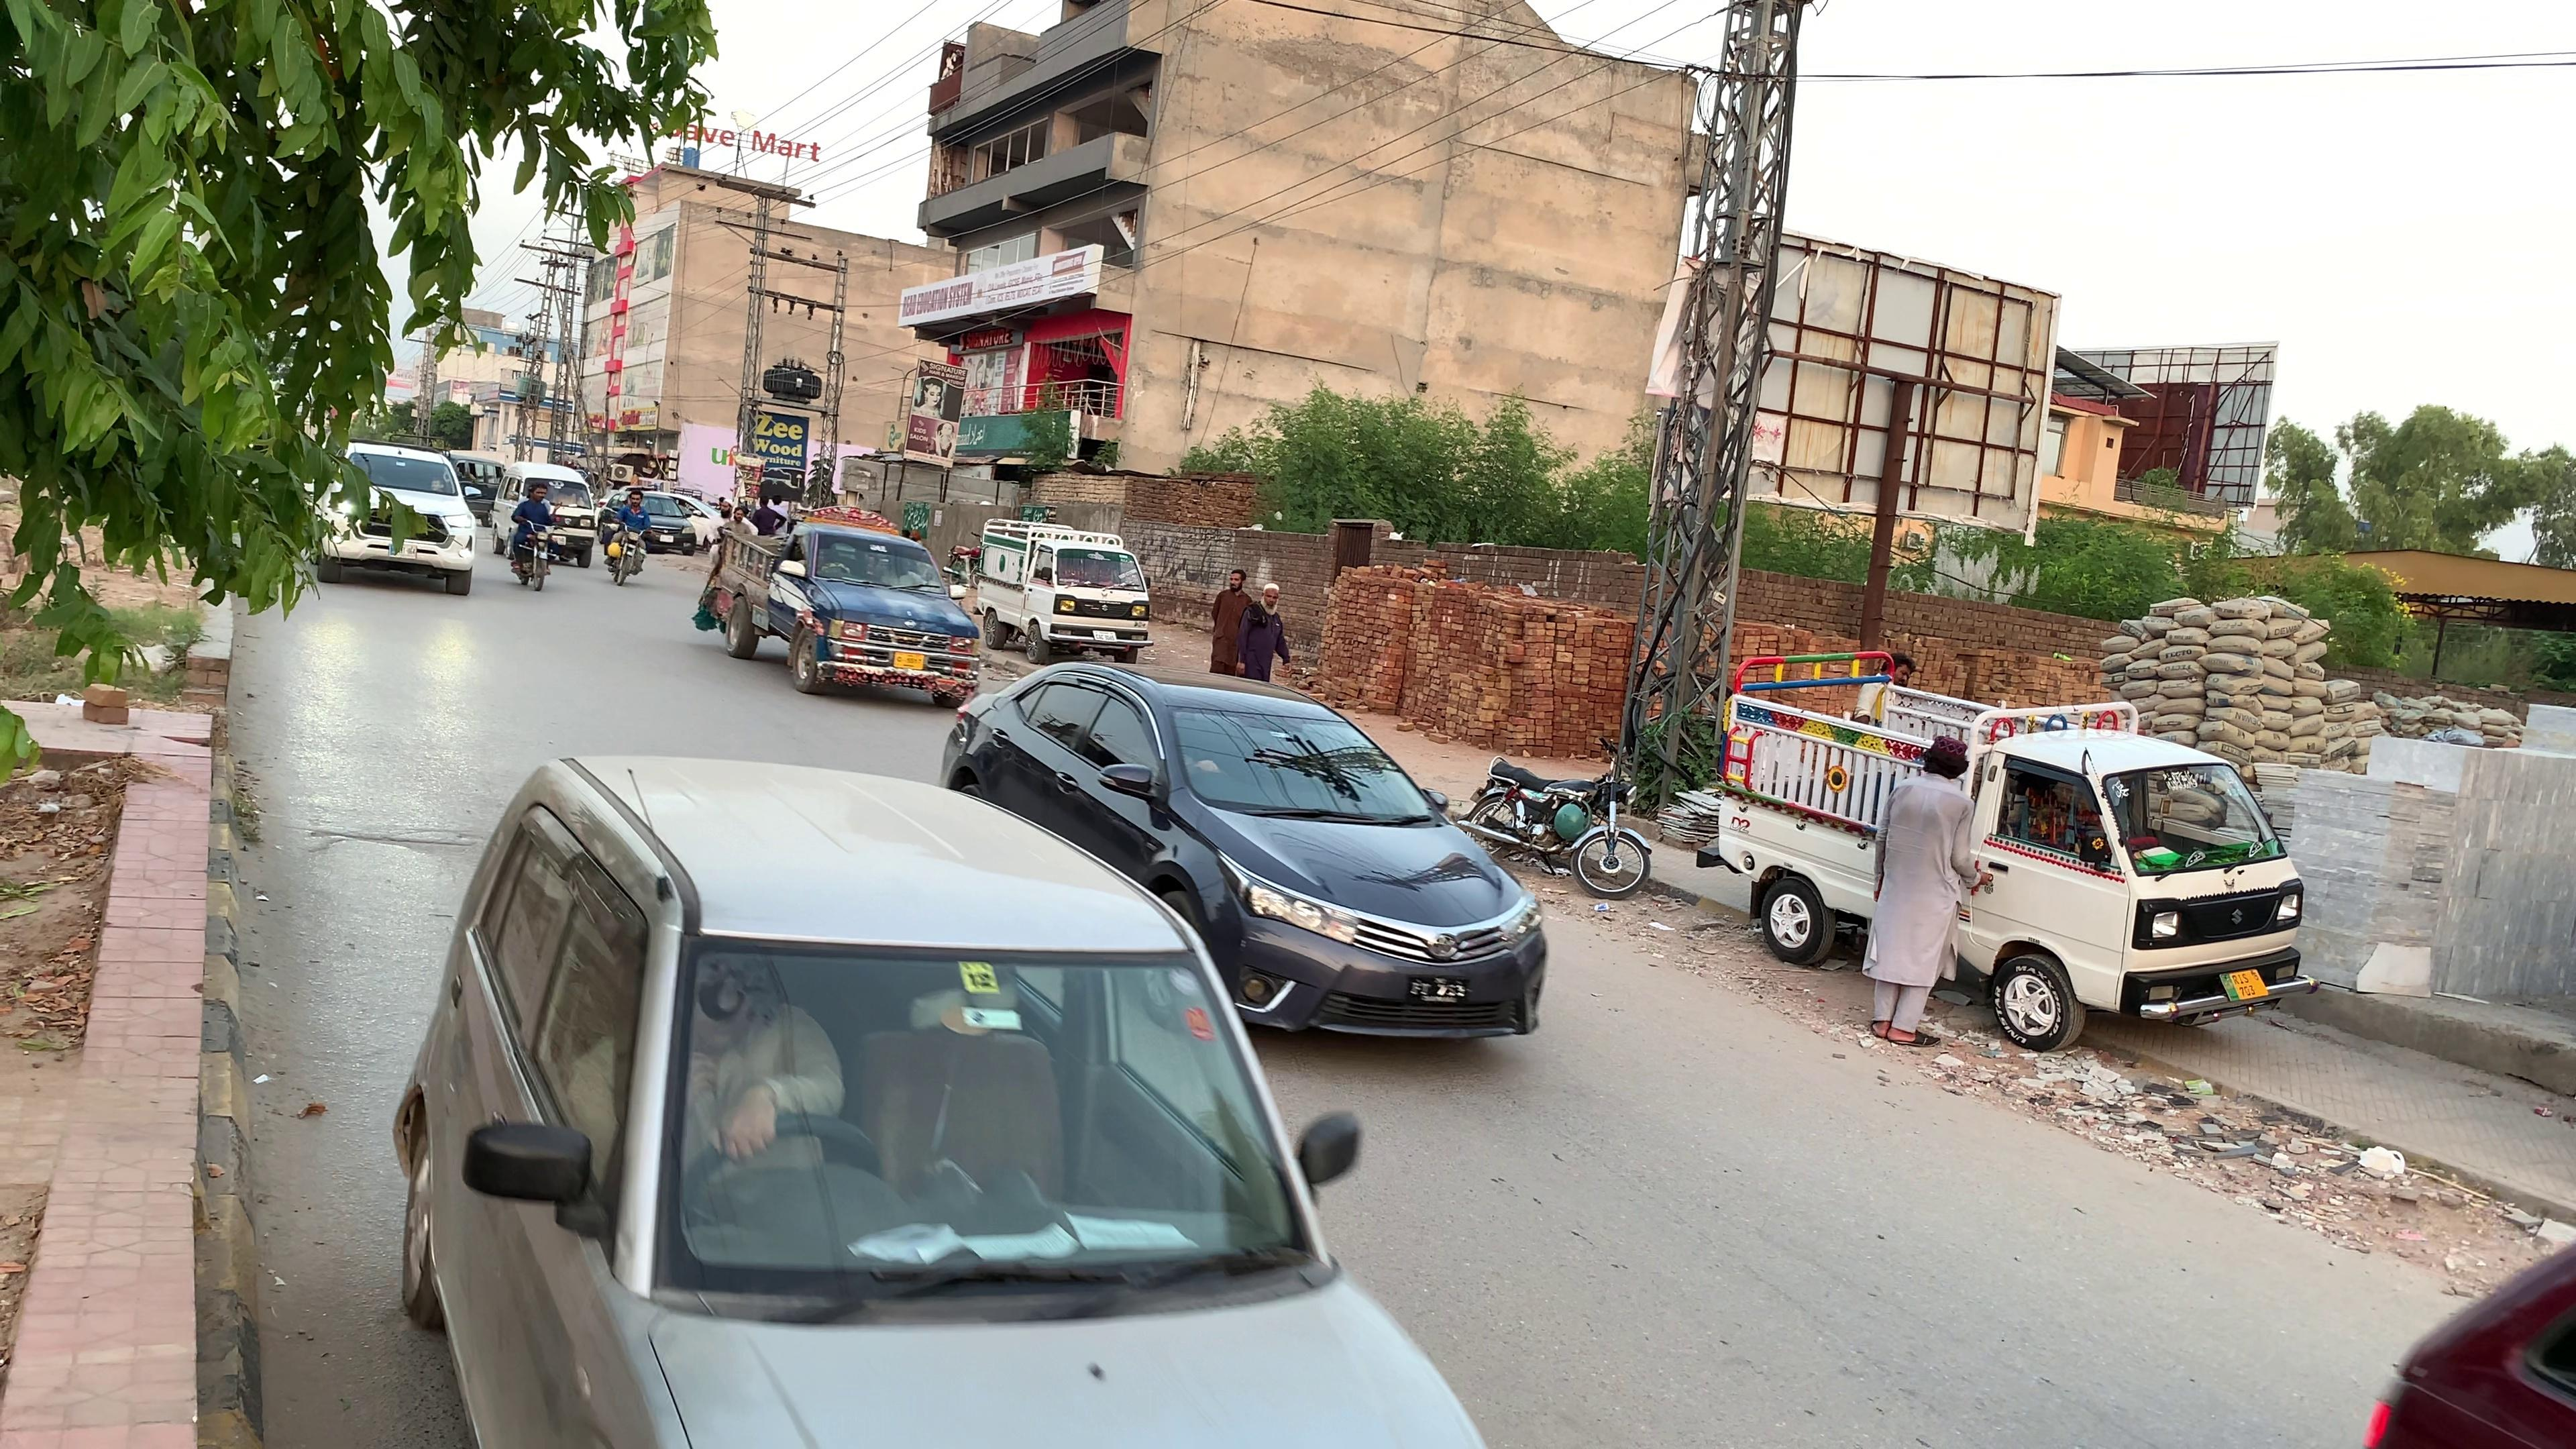windshield: (617, 902, 1352, 1325), (1155, 688, 1456, 835)
